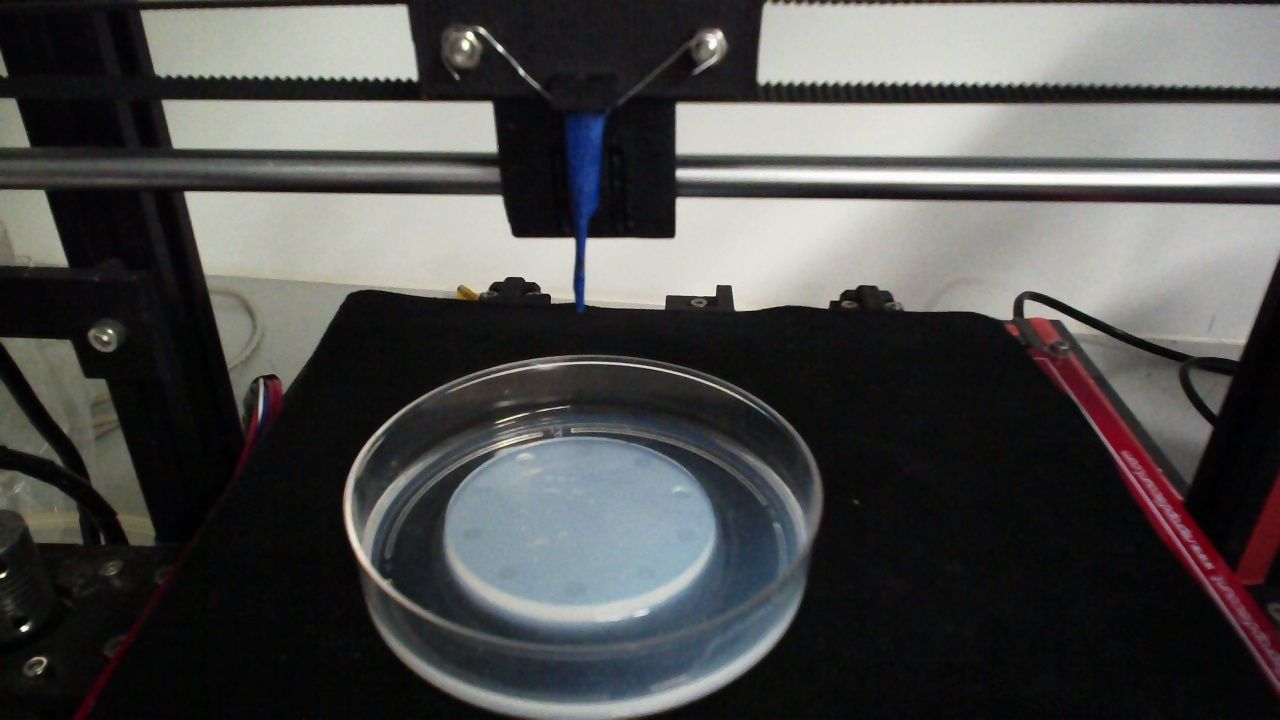groove: (562, 578, 587, 599), (459, 525, 485, 542), (634, 562, 657, 581), (469, 482, 494, 499), (511, 451, 535, 468), (496, 564, 521, 580), (673, 525, 695, 542), (669, 486, 693, 501), (572, 443, 593, 459), (632, 454, 652, 470)
needle: (567, 112, 605, 311)
